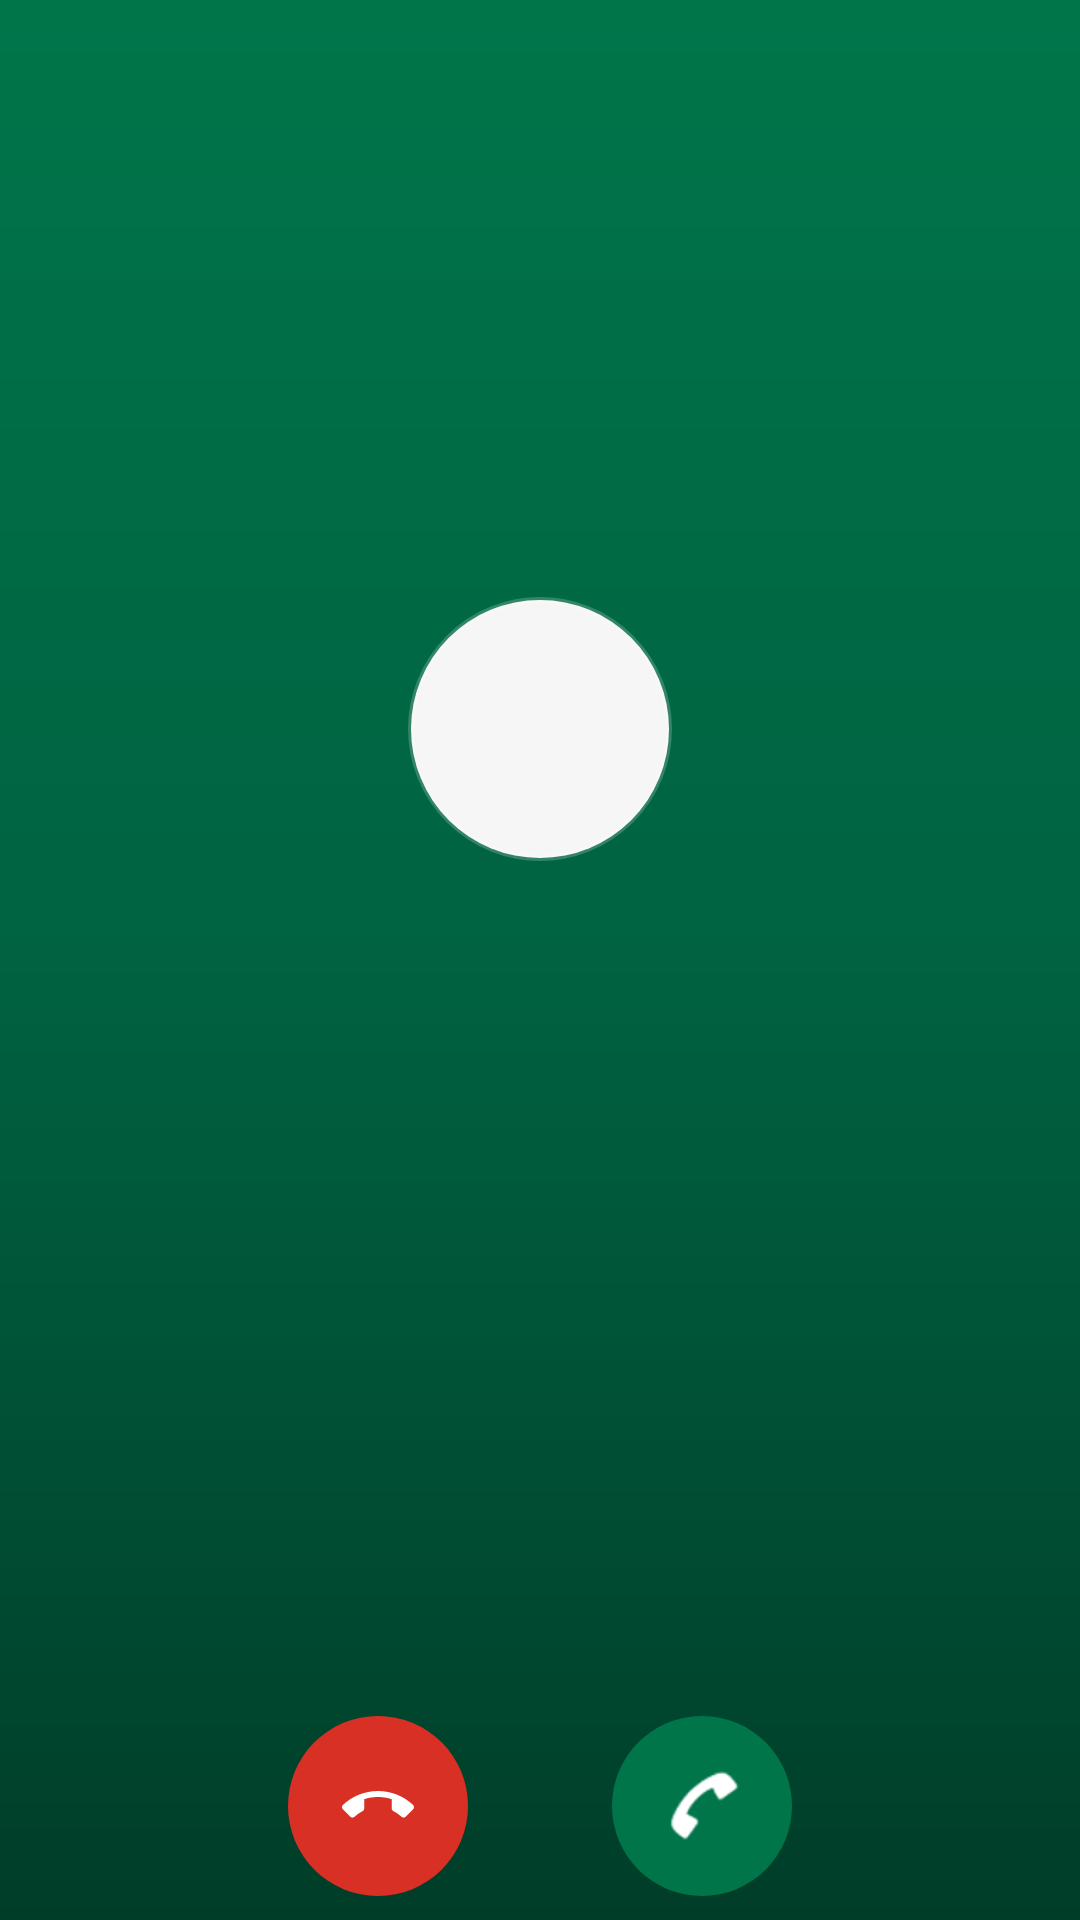

Where to tap for icons on this 1080px x 1920px app screen, as (x=x, y=y):
거절: (x=378, y=1806)
수락: (x=702, y=1806)
